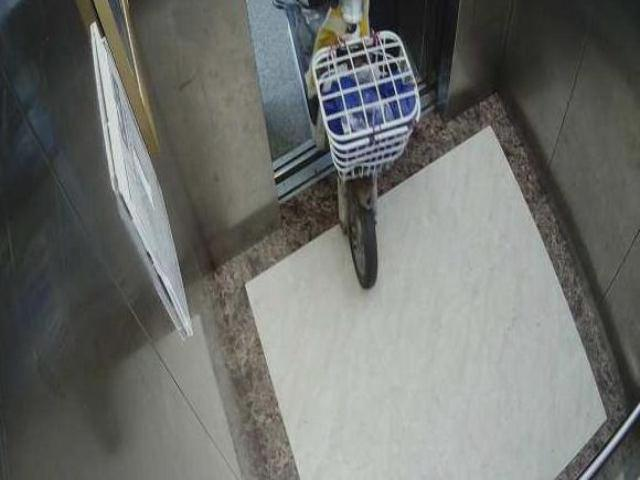emotor: (274, 1, 420, 300)
